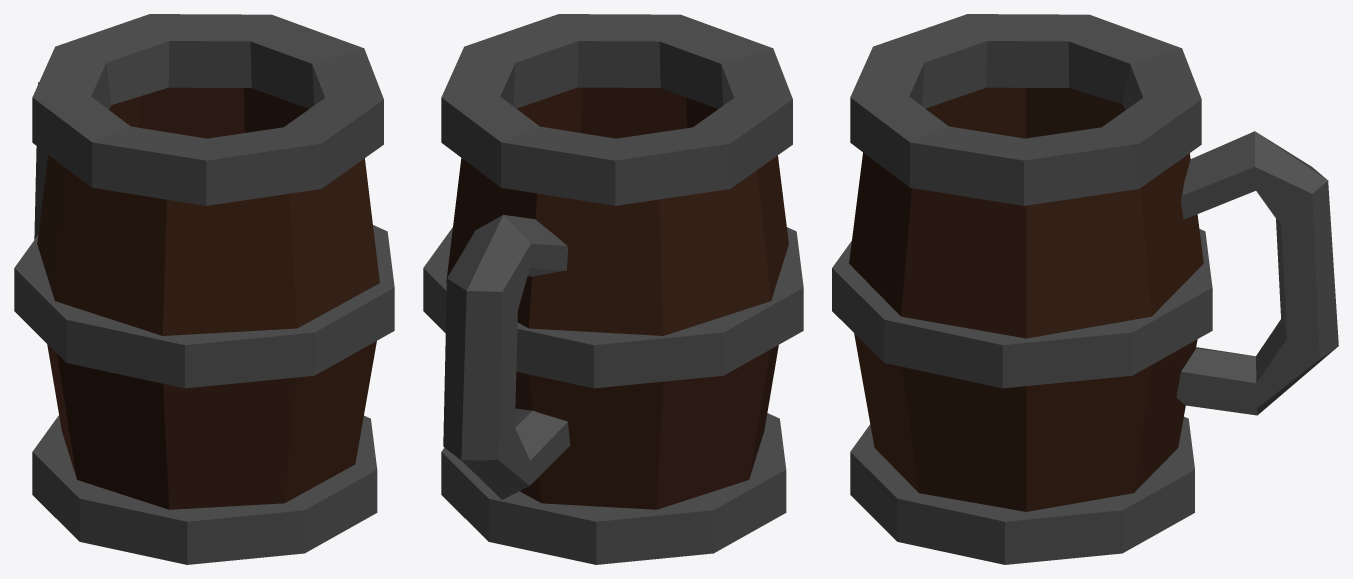
Rendered from BarProps.fbx.
The picture shows the model from 3 angles, left to right: view 1: azimuth 30°, elevation 25°; view 2: azimuth 150°, elevation 25°; view 3: azimuth 270°, elevation 25°; orthographic projection.
Visible parts, largest first — view 1: Grog, Circle.002, Circle.001, Circle.003, Handle; view 2: Grog, Circle.002, Handle, Circle.003, Circle.001; view 3: Grog, Circle.002, Handle, Circle.001, Circle.003.
Part boxes in pixels (x1=…): Grog: x1=37, y1=87, x2=379, y2=509; Circle.002: x1=32, y1=14, x2=383, y2=205; Circle.001: x1=14, y1=225, x2=394, y2=388; Circle.003: x1=32, y1=415, x2=377, y2=564; Handle: x1=34, y1=82, x2=48, y2=239; Grog: x1=446, y1=87, x2=788, y2=509; Circle.002: x1=441, y1=14, x2=792, y2=205; Handle: x1=443, y1=215, x2=570, y2=499; Circle.003: x1=441, y1=413, x2=786, y2=564; Circle.001: x1=423, y1=227, x2=803, y2=388; Grog: x1=849, y1=87, x2=1203, y2=511; Circle.002: x1=850, y1=14, x2=1201, y2=205; Handle: x1=1176, y1=131, x2=1338, y2=415; Circle.001: x1=832, y1=229, x2=1212, y2=388; Circle.003: x1=850, y1=416, x2=1194, y2=564.
Size of the model in its own units: 95.6 by 72.2 by 84.47.
